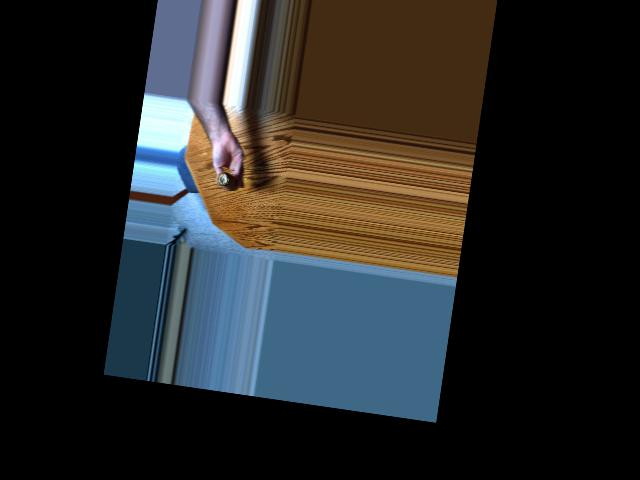sweet_potato: (211, 164, 241, 195)
